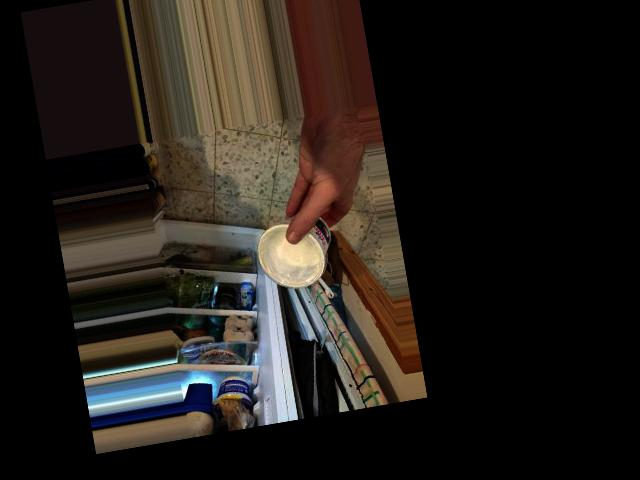cotage: (251, 208, 344, 299)
